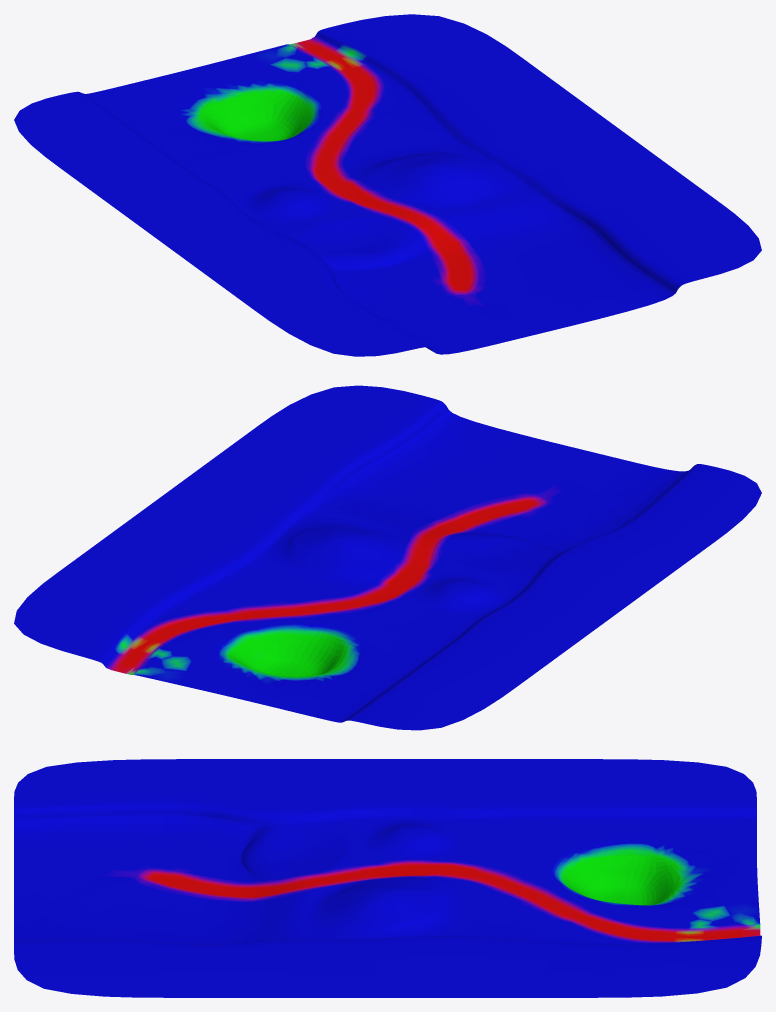
File: level_one_ground_1.fbx
3 views of the same model, one above another, from view 1: azimuth 30°, elevation 25°; view 2: azimuth 150°, elevation 25°; view 3: azimuth 270°, elevation 25° (orthographic). The views are drawn at different scales.
Parts seen in each view (by area): view 1: Plane; view 2: Plane; view 3: Plane.
Part boxes in pixels (x1,y1,x2,y2): Plane: [14, 14, 761, 356]; Plane: [14, 385, 761, 730]; Plane: [14, 759, 761, 997].
Size of the model in its own units: 3944 by 5223 by 312.
